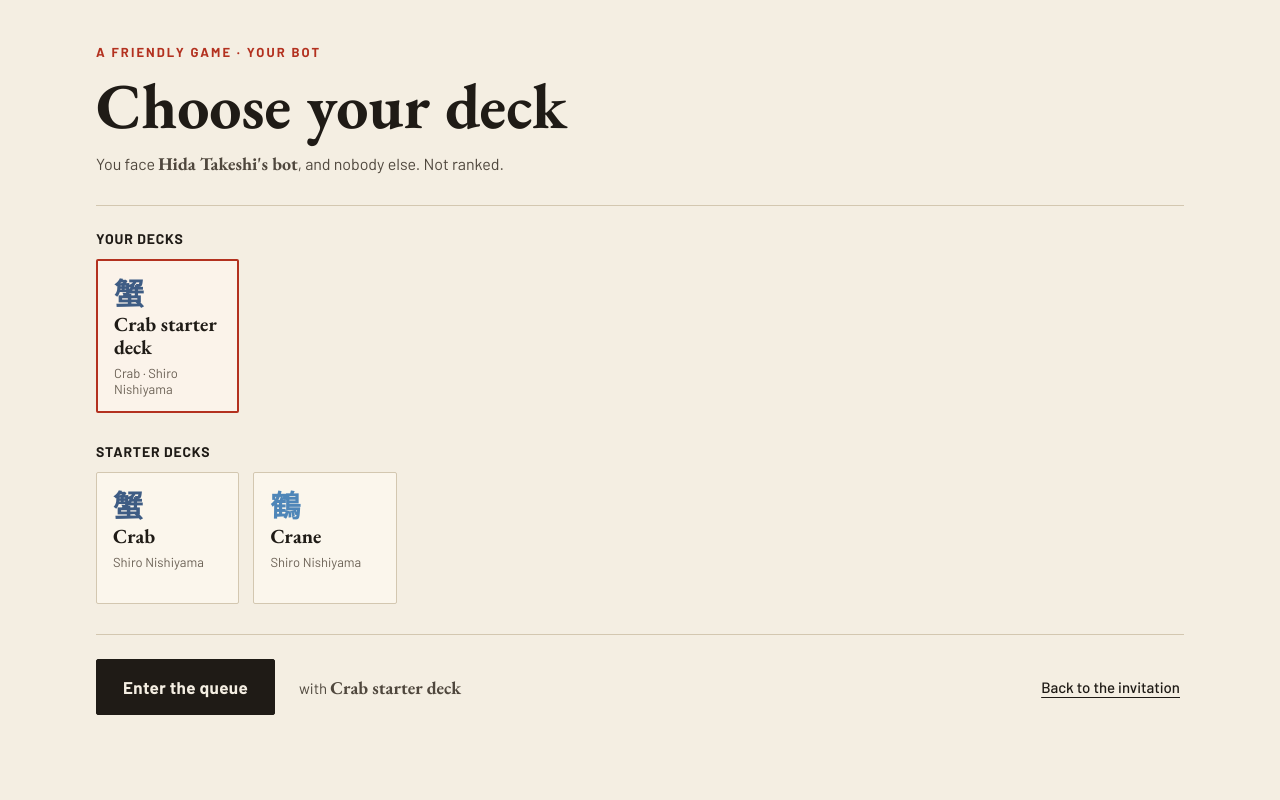
Test case: QueueView › enters the queue with the invitation of the host, then waits for their bot
Click the button "Enter the queue" at (186, 687), box [96,659,275,715]
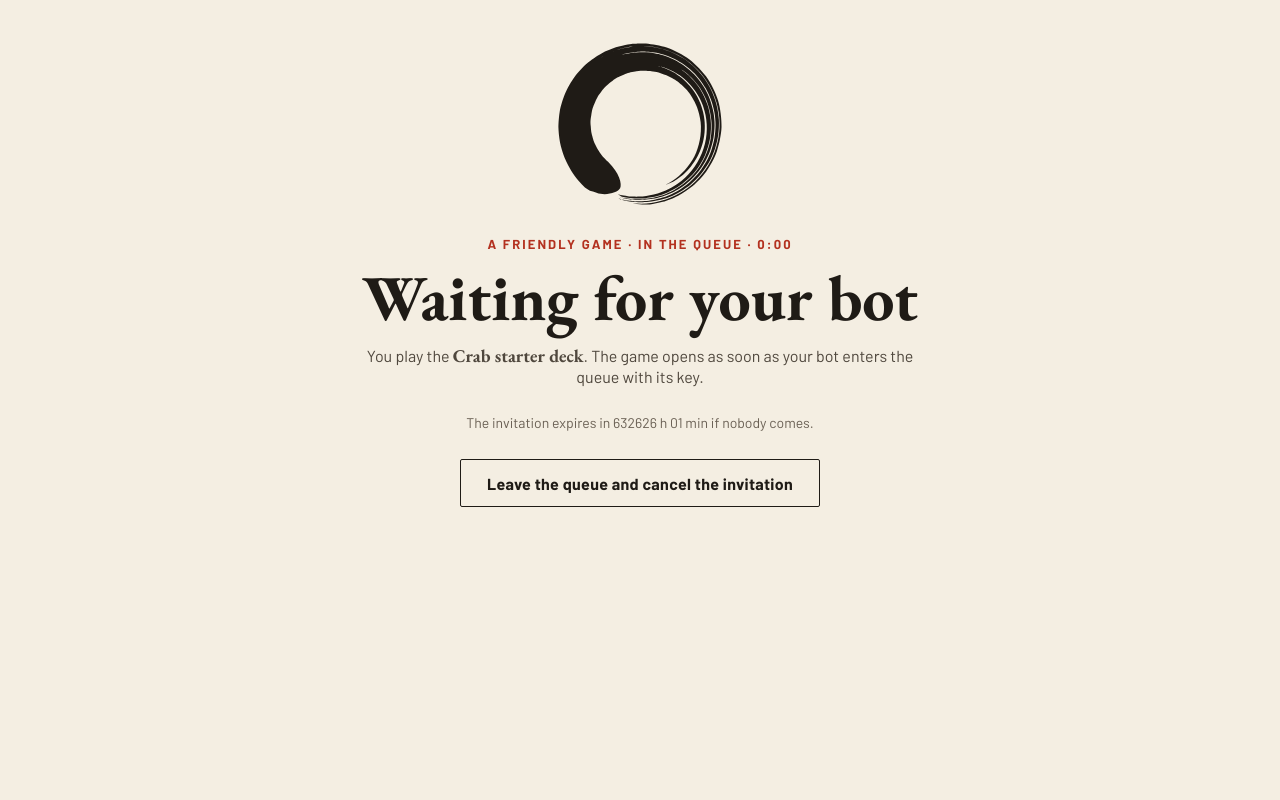
Check: the element with class "waiting" shows "Waiting for your bot", box [362,256,918,339]
Check: the button with class "btn-ghost" reads "Leave the queue and cancel the invitation", box [460,459,820,507]
